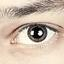eye: (28, 26, 48, 42)
